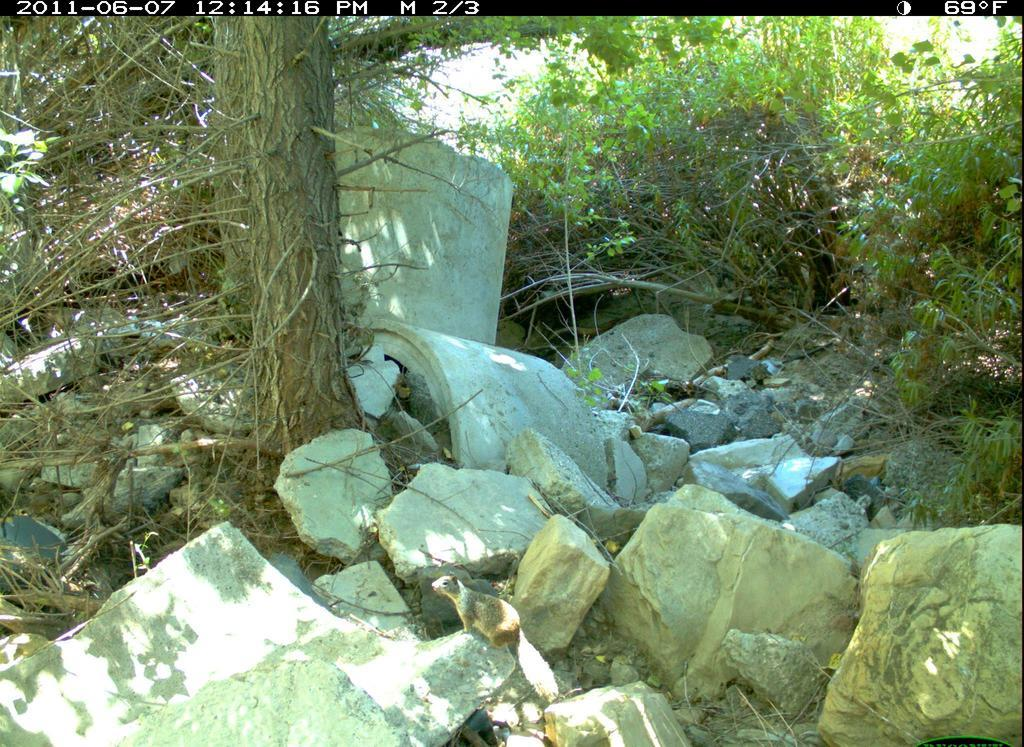squirrel: (428, 564, 565, 701)
